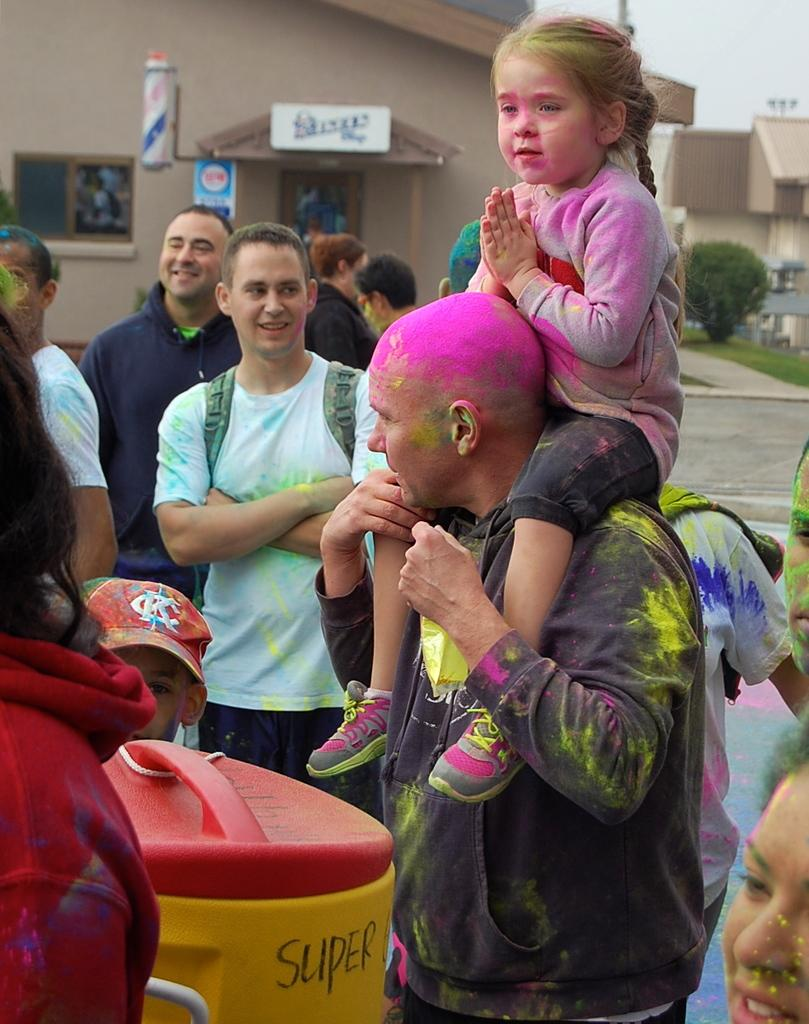Hat: (72, 577, 210, 685)
